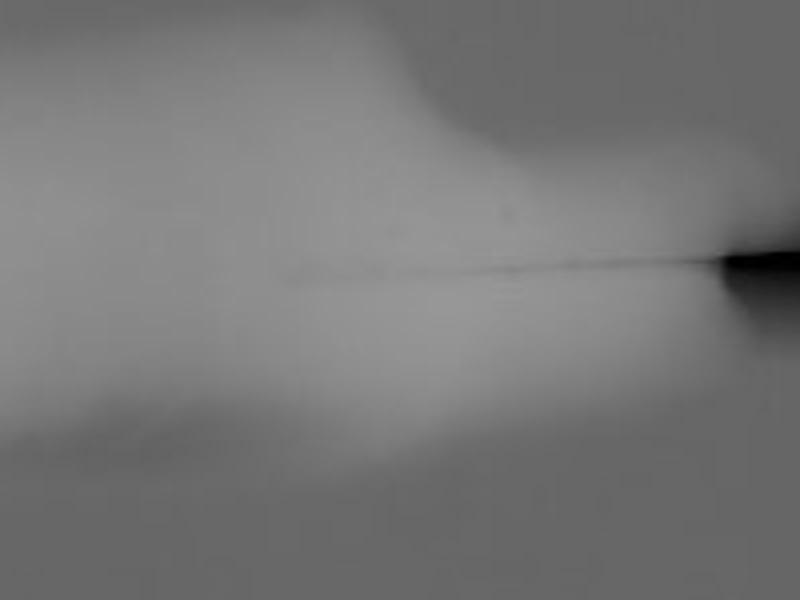defect: (721, 255, 800, 310)
